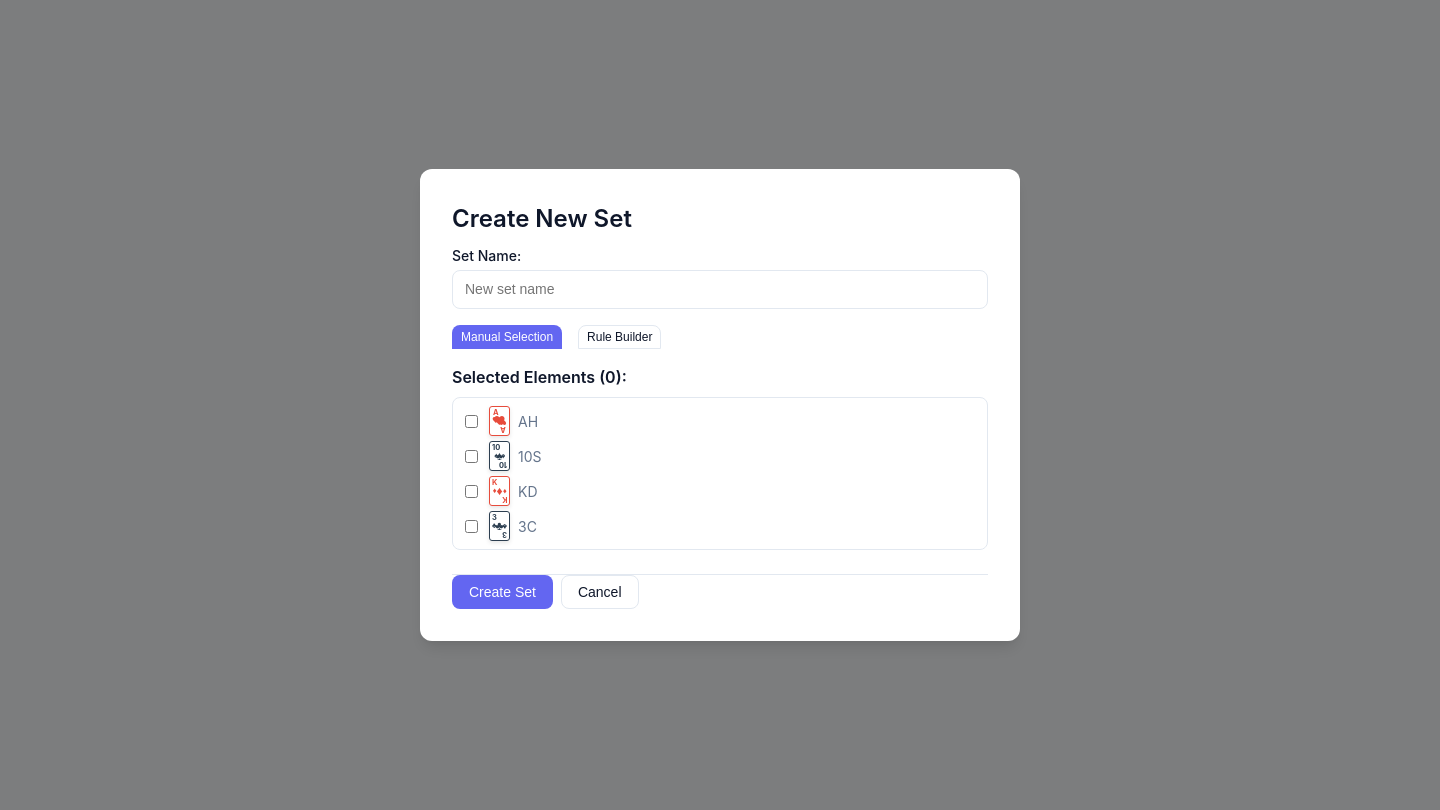
Test: SetEditModal Card Rules › applies FACE_CARD rule correctly
Step 1. Click the button "Rule Builder" → (620, 337), box [578, 325, 662, 349]
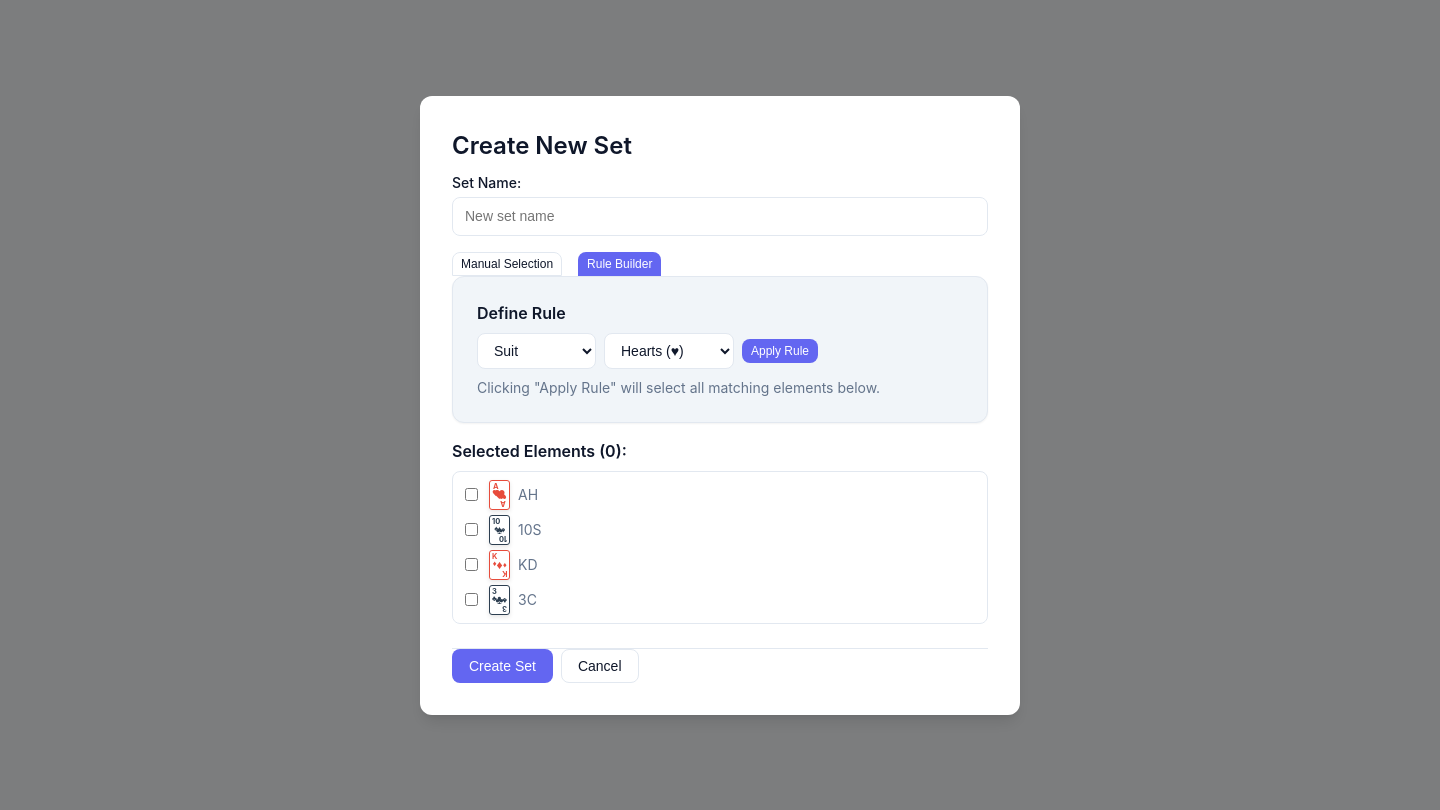
Step 2. Select "Face Cards" in the 1st dropdown showing "Suit" → (536, 350), box [477, 332, 596, 368]
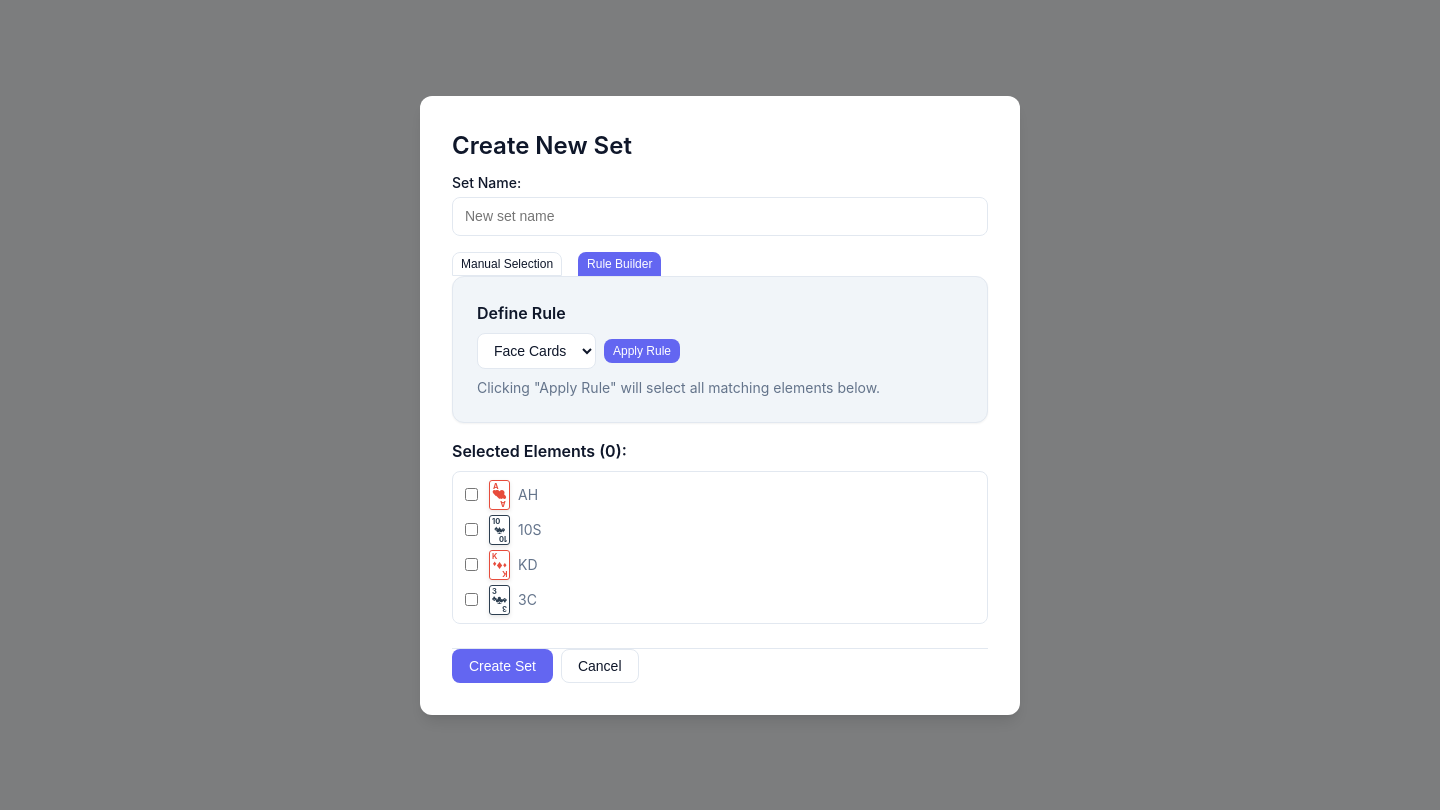
Step 3. Click the button "Apply Rule" → (642, 350), box [604, 338, 680, 362]
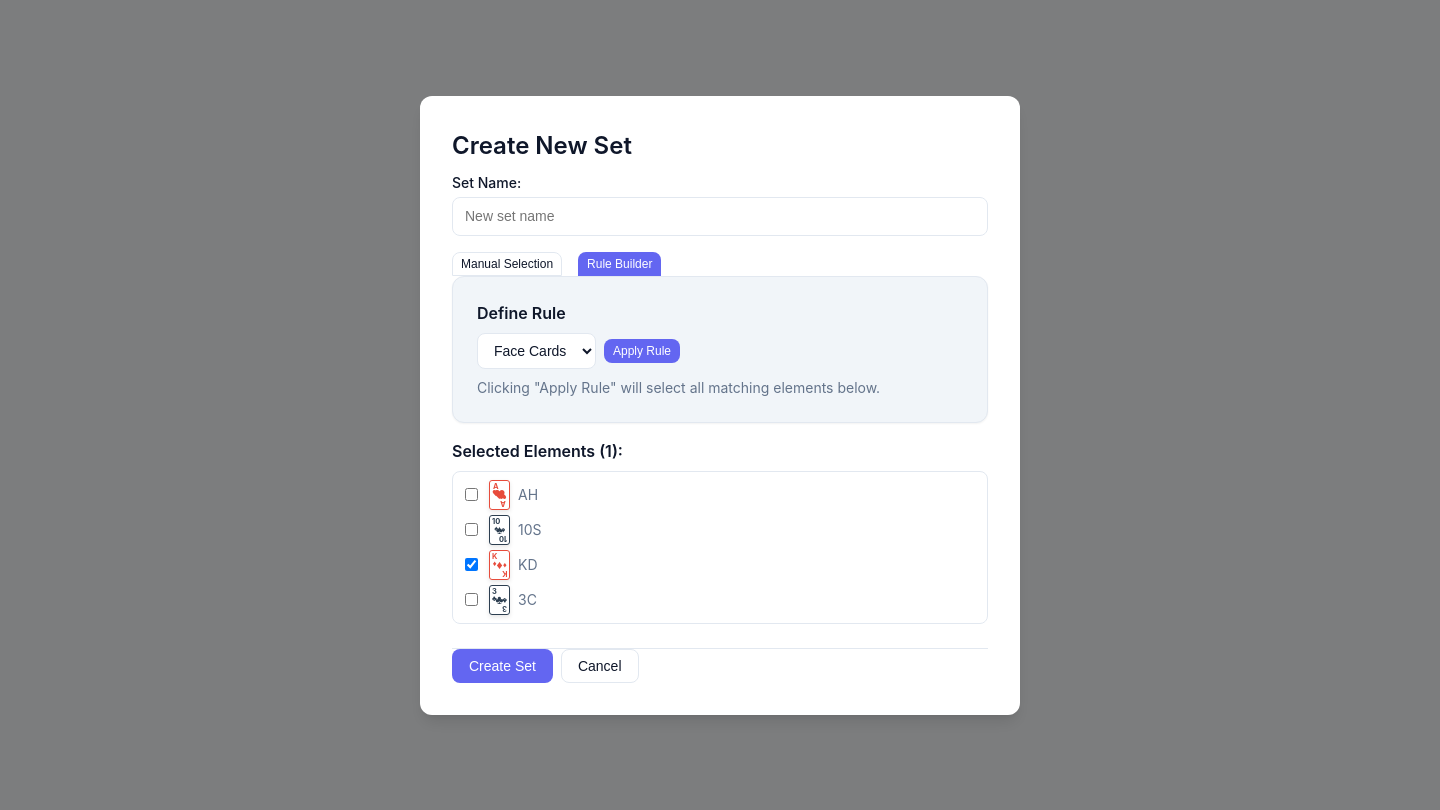
Expected: the checkbox labelled "A ♥ ♥ A ♥ AH" is not checked, [465, 488, 478, 501]
Result: the checkbox labelled "K ♦ ♦ K ♦ KD" is checked at [465, 558, 478, 571]
